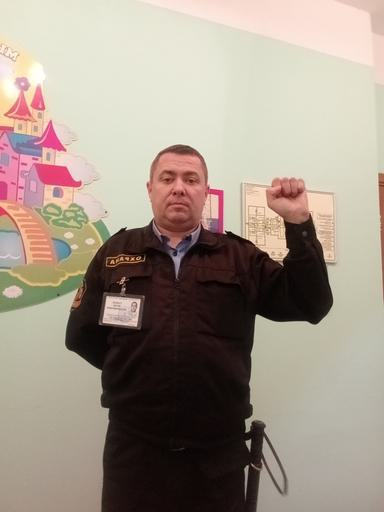fist: (265, 176, 311, 222)
